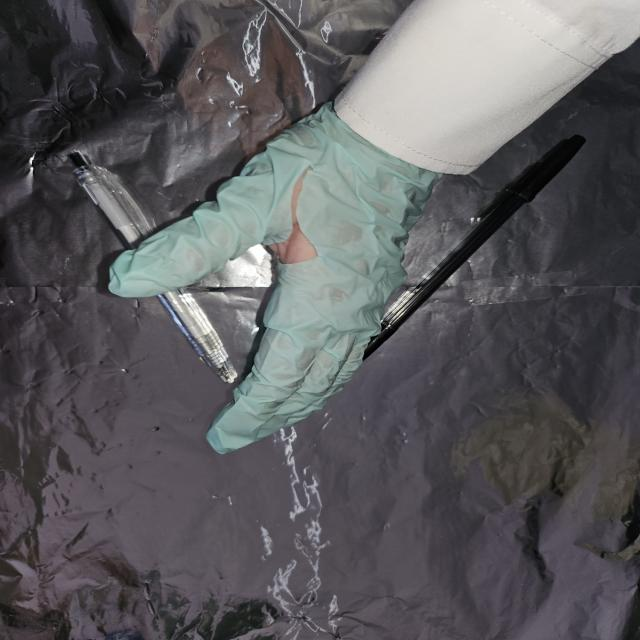gloves_damaged: (107, 107, 445, 456)
